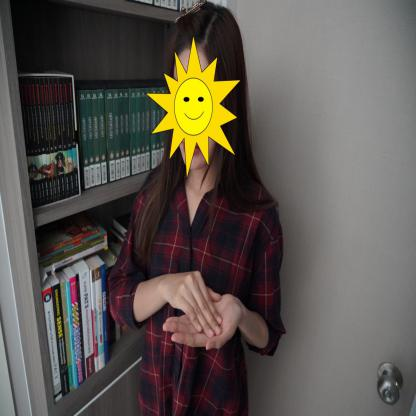Love: (134, 264, 256, 369)
